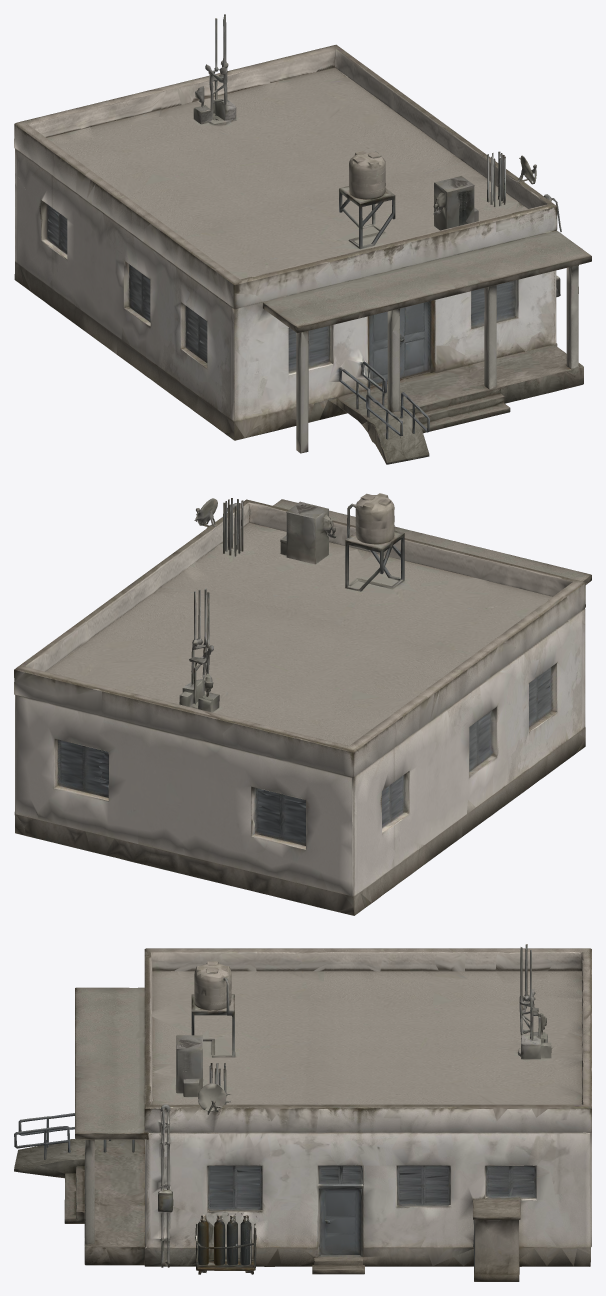
File: clinic.glb
The picture shows the model from 3 angles, top to bottom: view 1: azimuth 30°, elevation 25°; view 2: azimuth 150°, elevation 25°; view 3: azimuth 270°, elevation 25°; orthographic projection. The views are drawn at different scales.
Parts seen in each view (by area): view 1: wall, roof, trim, glass, metal; view 2: wall, roof, trim, metal, glass; view 3: wall, roof, trim, glass, metal.
Boxes of the visible parts, x1,y1,x2,y2 form: wall: [14, 14, 591, 460]; roof: [46, 67, 527, 392]; trim: [14, 44, 591, 462]; glass: [15, 73, 430, 464]; metal: [195, 14, 536, 222]; wall: [14, 495, 587, 915]; roof: [45, 522, 552, 745]; trim: [14, 499, 590, 849]; metal: [190, 493, 403, 682]; glass: [15, 574, 591, 915]; wall: [14, 944, 591, 1281]; roof: [152, 971, 582, 1104]; trim: [14, 948, 591, 1270]; glass: [40, 1002, 590, 1272]; metal: [176, 944, 546, 1101].
Bounding box in the file's own units: 10.2 × 6.68 × 14.12.
Materials: 1 (1 with a texture image).
